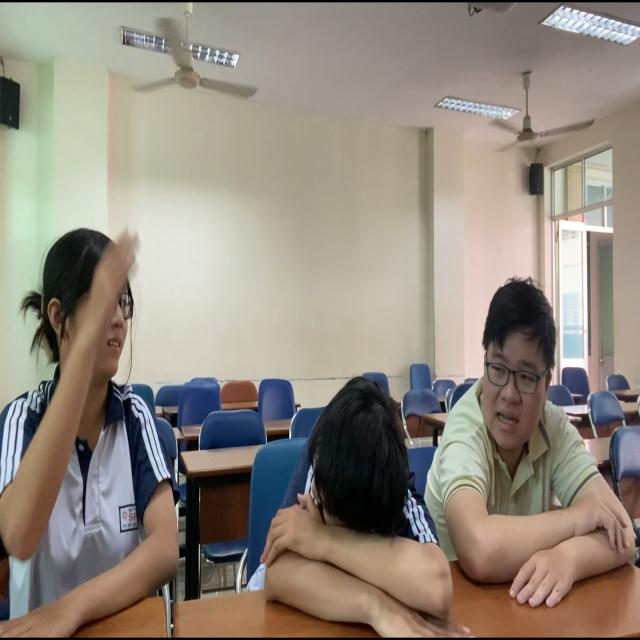sleep: (235, 363, 453, 640)
